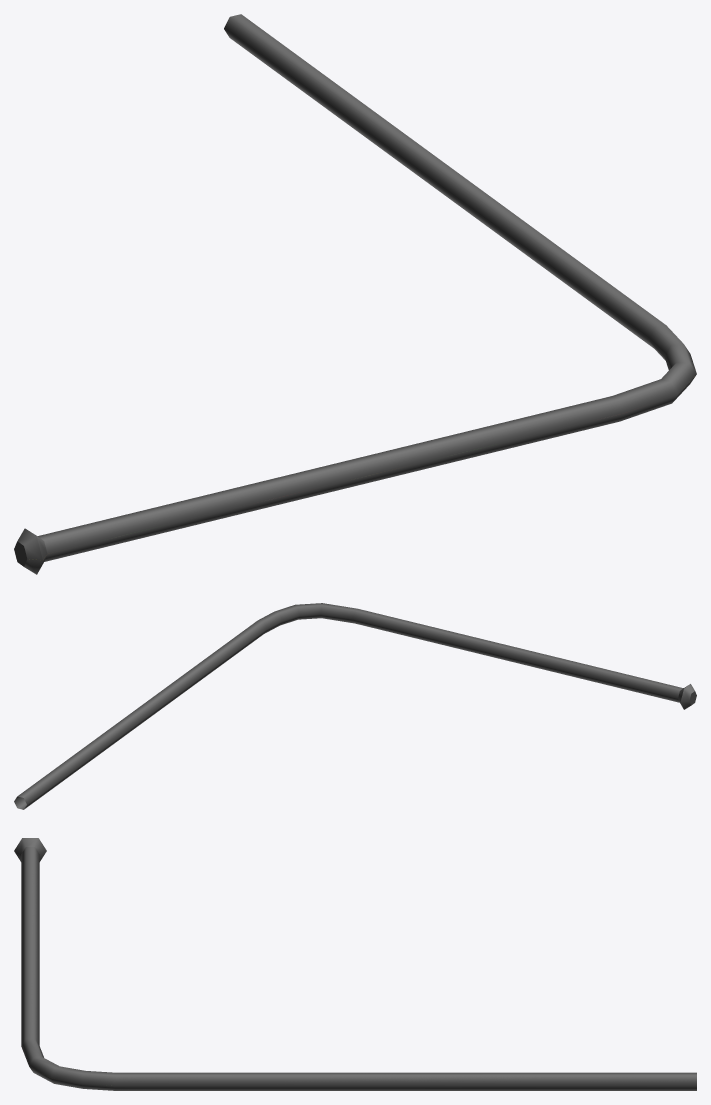
File: stop_light_post.obj
3 views of the same model, one above another, from view 1: azimuth 30°, elevation 25°; view 2: azimuth 150°, elevation 25°; view 3: azimuth 270°, elevation 25° (orthographic). The views are drawn at different scales.
Parts seen in each view (by area): view 1: StopLight_Post; view 2: StopLight_Post; view 3: StopLight_Post.
Boxes of the visible parts, left/top/right/bottom form: StopLight_Post: left=14, top=14, right=696, bottom=574; StopLight_Post: left=14, top=603, right=696, bottom=809; StopLight_Post: left=14, top=838, right=696, bottom=1090.
Size of the model in its own units: 494 by 25.05 by 599.
